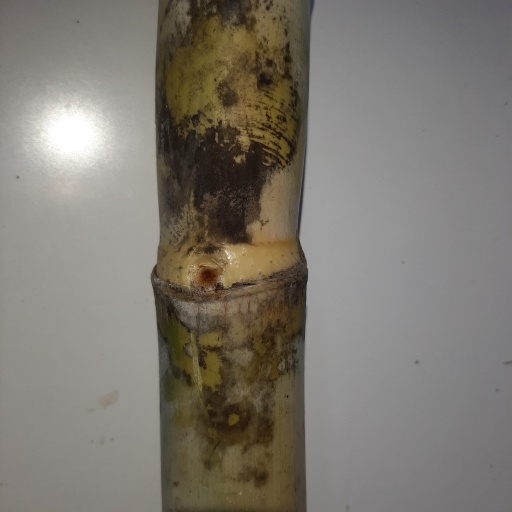Damage_Bud: (189, 262, 220, 289)
